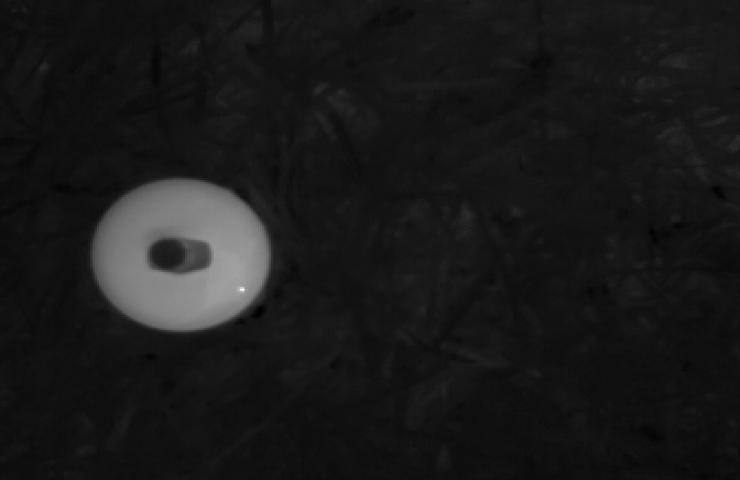landmines: (82, 169, 283, 346)
